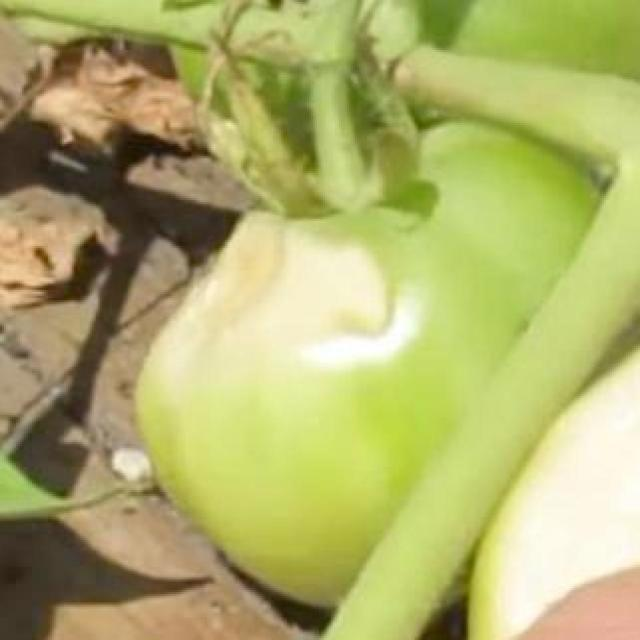Sunscald Fruit: (88, 134, 268, 263)
